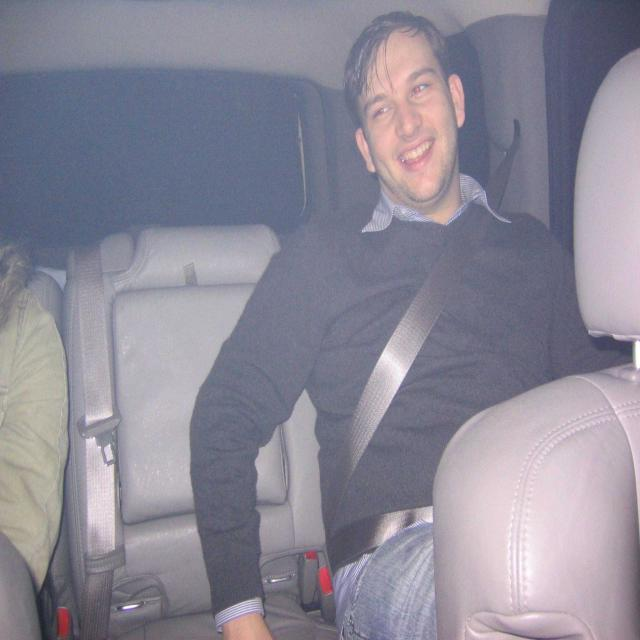seatbelt: (326, 110, 536, 560), (68, 187, 137, 582)
